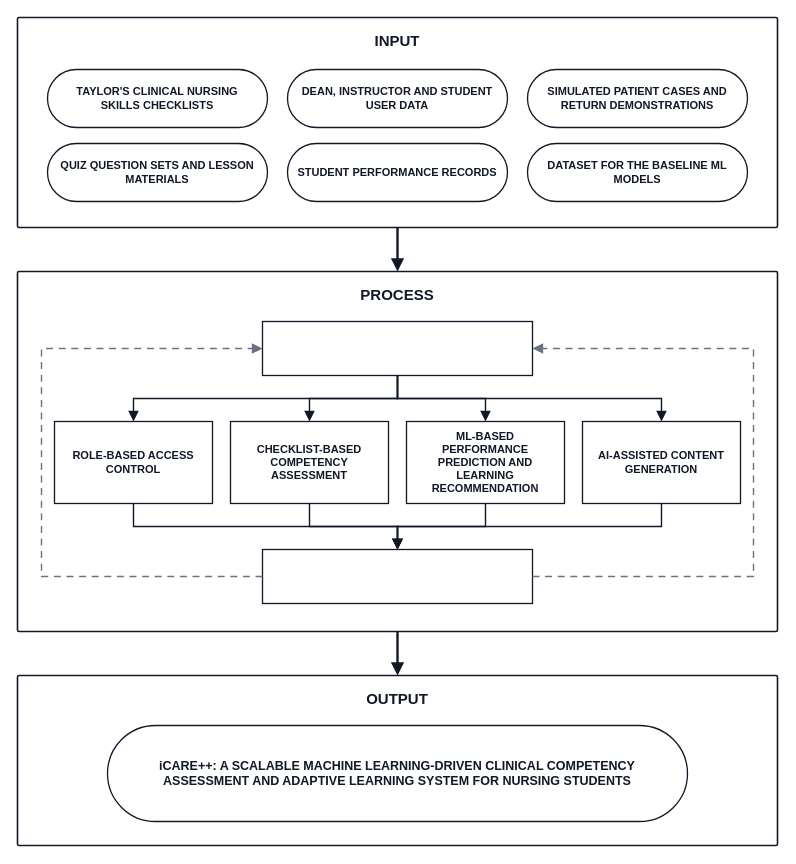
The diagram is 796 pixels wide and 864 high, and some of its shapes have lost their labels. Each missing label, with the centre of its shape:
"SYSTEM DESIGN AND DEVELOPMENT" belongs at (x=397, y=348).
"TESTING AND EVALUATION" belongs at (x=397, y=576).
